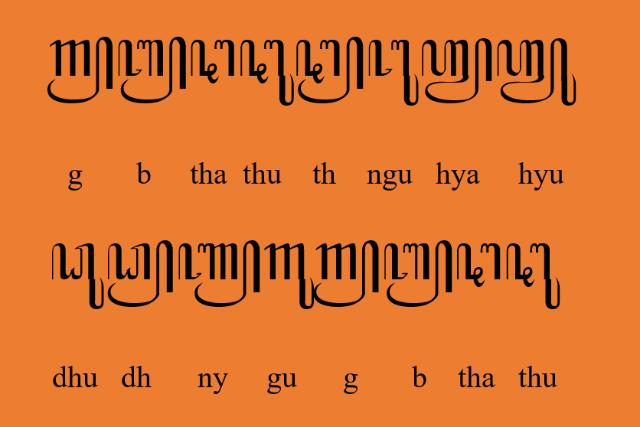-b: (117, 36, 187, 106), (383, 240, 452, 308)
-dh: (107, 240, 175, 308)
-g: (46, 36, 114, 104), (312, 240, 380, 308)
-ny: (177, 240, 261, 308)
-th: (296, 35, 364, 104)
dhu: (52, 242, 104, 310)
gu: (264, 243, 314, 311)
hy: (422, 37, 492, 104)
hyu: (497, 37, 578, 106)
ngu: (368, 38, 418, 106)
th: (190, 38, 236, 84), (456, 241, 500, 287)
thu: (240, 38, 294, 108), (506, 242, 560, 310)
